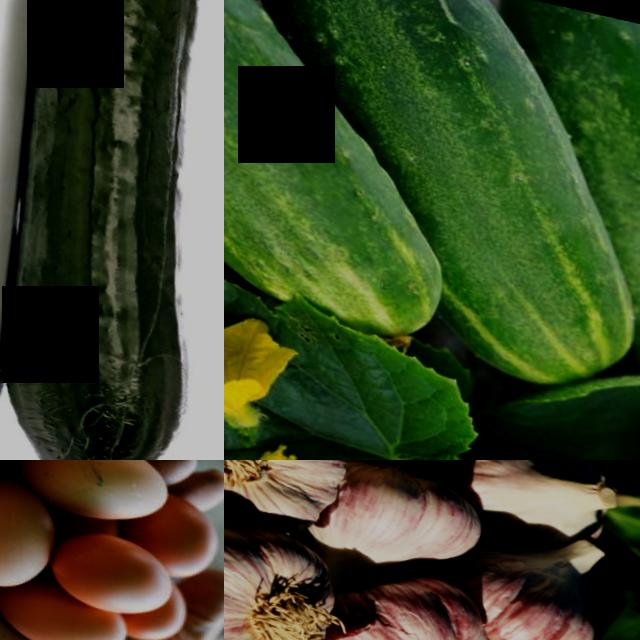cucumber: (0, 0, 224, 460), (392, 75, 640, 391), (224, 0, 382, 297)
egg_: (45, 518, 177, 618), (15, 460, 175, 528), (0, 578, 127, 640), (0, 466, 60, 595), (149, 489, 223, 579)
garlic: (316, 460, 491, 573), (472, 519, 609, 640), (224, 502, 339, 640), (316, 554, 493, 640), (429, 460, 621, 527), (224, 460, 345, 524)
